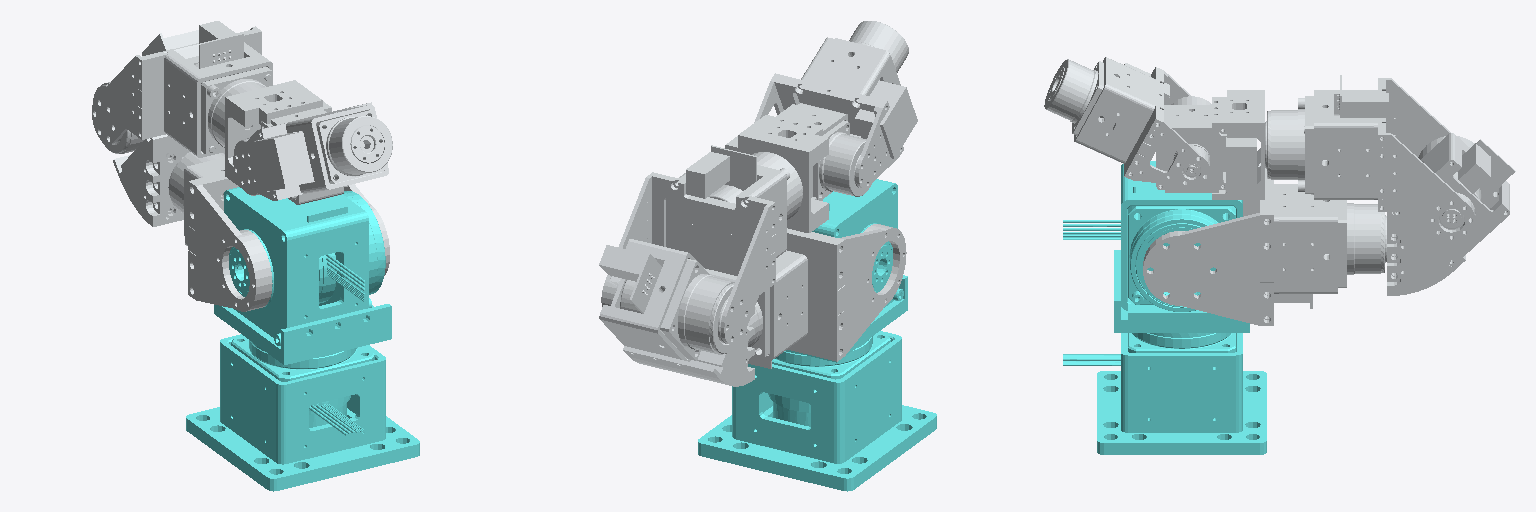
URDF robot description (table_arm):
<?xml version="1.0" encoding="utf-8"?>
<!-- This URDF was automatically created by SolidWorks to URDF Exporter! Originally created by [author] ([email redacted]) 
     Commit Version: 1.5.1-0-g916b5db  Build Version: 1.5.7152.31018
     For more information, please see http://wiki.ros.org/sw_urdf_exporter -->
<robot
  name="table_arm">
  <link
    name="base_link">
    <inertial>
      <origin
        xyz="-1.65706190610316E-05 -0.000119916277251549 0.0300539583353379"
        rpy="0 0 0" />
      <mass
        value="1.12509149890152" />
      <inertia
        ixx="0.00101434409151112"
        ixy="-1.04880216285518E-06"
        ixz="2.00480977970094E-07"
        iyy="0.00103853740225625"
        iyz="1.41989902783292E-06"
        izz="0.00175265916240766" />
    </inertial>
    <visual>
      <origin
        xyz="0 0 0"
        rpy="0 0 0" />
      <geometry>
        <mesh
          filename="package://table_arm/meshes/base_link.STL" />
      </geometry>
      <material
        name="">
        <color
          rgba="0.501960784313725 1 1 1" />
      </material>
    </visual>
    <collision>
      <origin
        xyz="0 0 0"
        rpy="0 0 0" />
      <geometry>
        <mesh
          filename="package://table_arm/meshes/base_link.STL" />
      </geometry>
    </collision>
  </link>
  <link
    name="link_1">
    <inertial>
      <origin
        xyz="0.000829517194191029 0.00425103504920541 0.0381583105216018"
        rpy="0 0 0" />
      <mass
        value="1.18180242682421" />
      <inertia
        ixx="0.000885516457055022"
        ixy="-4.93627366915009E-06"
        ixz="-2.91116322104174E-06"
        iyy="0.00138668286939693"
        iyz="1.56769429304993E-06"
        izz="0.00115252171660378" />
    </inertial>
    <visual>
      <origin
        xyz="0 0 0"
        rpy="0 0 0" />
      <geometry>
        <mesh
          filename="package://table_arm/meshes/link_1.STL" />
      </geometry>
      <material
        name="">
        <color
          rgba="0.501960784313725 1 1 1" />
      </material>
    </visual>
    <collision>
      <origin
        xyz="0 0 0"
        rpy="0 0 0" />
      <geometry>
        <mesh
          filename="package://table_arm/meshes/link_1.STL" />
      </geometry>
    </collision>
  </link>
  <joint
    name="joint_1"
    type="revolute">
    <origin
      xyz="0 0 0.092"
      rpy="0 0 1.5707963267949" />
    <parent
      link="base_link" />
    <child
      link="link_1" />
    <axis
      xyz="0 0 1" />
    <limit
      lower="0"
      upper="0"
      effort="0"
      velocity="0" />
  </joint>
  <link
    name="link_2">
    <inertial>
      <origin
        xyz="-0.000428554441540732 -0.0773189123724994 -0.00737971204676064"
        rpy="0 0 0" />
      <mass
        value="0.742154760471324" />
      <inertia
        ixx="0.000383418033802214"
        ixy="1.95626085431396E-06"
        ixz="5.52016092099987E-06"
        iyy="0.000519769983990921"
        iyz="-4.81334906226082E-06"
        izz="0.000422634222999281" />
    </inertial>
    <visual>
      <origin
        xyz="0 0 0"
        rpy="0 0 0" />
      <geometry>
        <mesh
          filename="package://table_arm/meshes/link_2.STL" />
      </geometry>
      <material
        name="">
        <color
          rgba="0.898039215686275 0.917647058823529 0.929411764705882 1" />
      </material>
    </visual>
    <collision>
      <origin
        xyz="0 0 0"
        rpy="0 0 0" />
      <geometry>
        <mesh
          filename="package://table_arm/meshes/link_2.STL" />
      </geometry>
    </collision>
  </link>
  <joint
    name="joint_2"
    type="revolute">
    <origin
      xyz="0 -0.0075 0.048"
      rpy="1.5707963267949 -1.5707963267949 0" />
    <parent
      link="link_1" />
    <child
      link="link_2" />
    <axis
      xyz="0 0 1" />
    <limit
      lower="0"
      upper="0"
      effort="0"
      velocity="0" />
  </joint>
  <link
    name="link_3">
    <inertial>
      <origin
        xyz="-0.000341777112802012 -0.0217027260119467 0.034102311098462"
        rpy="0 0 0" />
      <mass
        value="0.806964917043645" />
      <inertia
        ixx="0.000369652873297802"
        ixy="-1.52204773385423E-06"
        ixz="1.20034094378975E-06"
        iyy="0.000335533295104123"
        iyz="-1.1515591101845E-05"
        izz="0.000394955086054961" />
    </inertial>
    <visual>
      <origin
        xyz="0 0 0"
        rpy="0 0 0" />
      <geometry>
        <mesh
          filename="package://table_arm/meshes/link_3.STL" />
      </geometry>
      <material
        name="">
        <color
          rgba="0.898039215686275 0.917647058823529 0.929411764705882 1" />
      </material>
    </visual>
    <collision>
      <origin
        xyz="0 0 0"
        rpy="0 0 0" />
      <geometry>
        <mesh
          filename="package://table_arm/meshes/link_3.STL" />
      </geometry>
    </collision>
  </link>
  <joint
    name="joint_3"
    type="continuous">
    <origin
      xyz="0 -0.1445 -0.00749999999998746"
      rpy="1.5707963267949 -1.5707963267949 0" />
    <parent
      link="link_2" />
    <child
      link="link_3" />
    <axis
      xyz="0 0 -1" />
  </joint>
  <link
    name="link_4">
    <inertial>
      <origin
        xyz="-0.080025706499617 0.029421545370844 0.00322821126434478"
        rpy="0 0 0" />
      <mass
        value="0.566102198606674" />
      <inertia
        ixx="0.000260590319873162"
        ixy="-5.08487877698499E-05"
        ixz="-3.4003226615359E-06"
        iyy="0.000284217607682232"
        iyz="-5.22728155265439E-06"
        izz="0.000225229416725362" />
    </inertial>
    <visual>
      <origin
        xyz="0 0 0"
        rpy="0 0 0" />
      <geometry>
        <mesh
          filename="package://table_arm/meshes/link_4.STL" />
      </geometry>
      <material
        name="">
        <color
          rgba="0.898039215686275 0.917647058823529 0.929411764705882 1" />
      </material>
    </visual>
    <collision>
      <origin
        xyz="0 0 0"
        rpy="0 0 0" />
      <geometry>
        <mesh
          filename="package://table_arm/meshes/link_4.STL" />
      </geometry>
    </collision>
  </link>
  <joint
    name="joint_4"
    type="revolute">
    <origin
      xyz="0.00399999999998503 -0.0365000000000053 0.0455000000000024"
      rpy="-1.5707963267949 -0.785398163397448 1.5707963267949" />
    <parent
      link="link_3" />
    <child
      link="link_4" />
    <axis
      xyz="0 0 -1" />
    <limit
      lower="0"
      upper="0"
      effort="0"
      velocity="0" />
  </joint>
  <link
    name="link_5">
    <inertial>
      <origin
        xyz="2.15689631738458E-07 -0.00255241947351406 0.0369004601709006"
        rpy="0 0 0" />
      <mass
        value="0.468596922084729" />
      <inertia
        ixx="0.000163486477461417"
        ixy="-1.12447617071923E-09"
        ixz="-3.05692009732978E-07"
        iyy="0.000226300679826748"
        iyz="-1.3266635516296E-05"
        izz="0.000178272106720262" />
    </inertial>
    <visual>
      <origin
        xyz="0 0 0"
        rpy="0 0 0" />
      <geometry>
        <mesh
          filename="package://table_arm/meshes/link_5.STL" />
      </geometry>
      <material
        name="">
        <color
          rgba="0.898039215686275 0.917647058823529 0.929411764705882 1" />
      </material>
    </visual>
    <collision>
      <origin
        xyz="0 0 0"
        rpy="0 0 0" />
      <geometry>
        <mesh
          filename="package://table_arm/meshes/link_5.STL" />
      </geometry>
    </collision>
  </link>
  <joint
    name="joint_5"
    type="continuous">
    <origin
      xyz="-0.118793939239341 0.0671751442127215 0.00399999999999767"
      rpy="1.5707963267949 0 -2.35619449019234" />
    <parent
      link="link_4" />
    <child
      link="link_5" />
    <axis
      xyz="0 0 -1" />
  </joint>
  <link
    name="link_6">
    <inertial>
      <origin
        xyz="-0.0258679461161483 0.0521695150773343 0.00614921124537563"
        rpy="0 0 0" />
      <mass
        value="0.410187464873175" />
      <inertia
        ixx="0.000155615505356158"
        ixy="-1.61032292748035E-05"
        ixz="-6.67491379603911E-06"
        iyy="0.000180111157412533"
        iyz="1.27737173899181E-05"
        izz="0.000106091737904499" />
    </inertial>
    <visual>
      <origin
        xyz="0 0 0"
        rpy="0 0 0" />
      <geometry>
        <mesh
          filename="package://table_arm/meshes/link_6.STL" />
      </geometry>
      <material
        name="">
        <color
          rgba="0.898039215686275 0.917647058823529 0.929411764705882 1" />
      </material>
    </visual>
    <collision>
      <origin
        xyz="0 0 0"
        rpy="0 0 0" />
      <geometry>
        <mesh
          filename="package://table_arm/meshes/link_6.STL" />
      </geometry>
    </collision>
  </link>
  <joint
    name="joint_6"
    type="fixed">
    <origin
      xyz="0 -0.00150000000000088 0.0515"
      rpy="1.5707963267949 0 3.14159265358979" />
    <parent
      link="link_5" />
    <child
      link="link_6" />
    <axis
      xyz="0 0 -1" />
    <limit
      lower="0"
      upper="0"
      effort="0"
      velocity="0" />
  </joint>
</robot>

--- What the picture shows (computed from the rendered views, not written in the file) ---
Views: 3 orthographic renders of the robot side by side, from view 1: azimuth 30°, elevation 25°; view 2: azimuth 150°, elevation 25°; view 3: azimuth 270°, elevation 25°.
Model table_arm with 7 links and 6 joints (3 revolute, 2 continuous, 1 fixed), rooted at base_link, posed all joints at 0.
Links seen in each view (by area): view 1: base_link, link_1, link_4, link_6, link_2, link_3, link_5; view 2: base_link, link_4, link_3, link_2, link_6, link_5, link_1; view 3: link_2, base_link, link_4, link_6, link_1, link_3, link_5.
Boxes of the visible links, left/top/right/bottom form: base_link: left=186, top=334, right=419, bottom=491; link_1: left=214, top=187, right=391, bottom=364; link_4: left=92, top=21, right=272, bottom=157; link_6: left=233, top=102, right=392, bottom=200; link_2: left=168, top=152, right=389, bottom=311; link_3: left=93, top=30, right=224, bottom=226; link_5: left=225, top=80, right=348, bottom=204; base_link: left=698, top=331, right=936, bottom=491; link_4: left=601, top=145, right=802, bottom=344; link_3: left=599, top=239, right=754, bottom=386; link_2: left=704, top=224, right=906, bottom=368; link_6: left=754, top=21, right=917, bottom=188; link_5: left=725, top=103, right=871, bottom=232; link_1: left=786, top=179, right=907, bottom=362; link_2: left=1143, top=168, right=1386, bottom=325; base_link: left=1063, top=333, right=1266, bottom=454; link_4: left=1265, top=75, right=1474, bottom=241; link_6: left=1044, top=57, right=1209, bottom=187; link_1: left=1063, top=161, right=1249, bottom=332; link_3: left=1387, top=133, right=1515, bottom=295; link_5: left=1156, top=90, right=1264, bottom=199.
Bounding box of the posed robot: 0.12 × 0.3317 × 0.2776 m (x, y, z).
Meshes: 7 distinct files referenced, 7 mesh visuals loaded (7 binary STL).